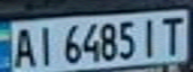4: (81, 19, 103, 63)
5: (115, 17, 142, 61)
6: (57, 20, 84, 65)
8: (100, 19, 121, 62)
A: (9, 24, 39, 70)
I: (136, 15, 163, 57), (33, 22, 57, 69)
T: (157, 12, 190, 56)
